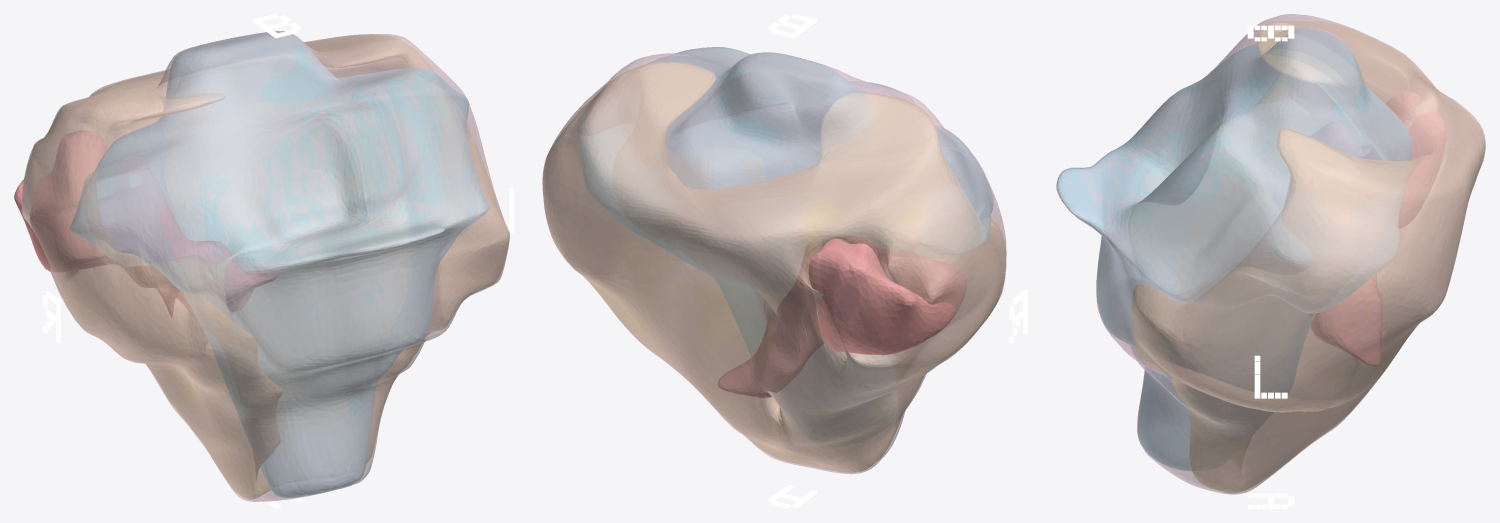
The picture shows the model from 3 angles, left to right: view 1: azimuth 30°, elevation 25°; view 2: azimuth 150°, elevation 25°; view 3: azimuth 270°, elevation 25°; orthographic projection.
Visible parts, largest first — view 1: prostate_gland, transition_zone, peripheral_zone, lesion_01, pv_ar_marker_B; view 2: prostate_gland, peripheral_zone, transition_zone, lesion_01, pv_ar_marker_B, pv_ar_marker_R; view 3: prostate_gland, peripheral_zone, transition_zone, lesion_01, pv_ar_marker_B, pv_ar_marker_A, pv_ar_marker_L.
Boxes of the visible parts, box(x1,y1,x2,y2) form: prostate_gland: box(21, 31, 509, 501); transition_zone: box(70, 31, 489, 497); peripheral_zone: box(22, 34, 509, 499); lesion_01: box(14, 130, 276, 322); pv_ar_marker_B: box(252, 14, 300, 38); prostate_gland: box(542, 47, 1006, 474); peripheral_zone: box(543, 61, 1006, 472); transition_zone: box(577, 47, 993, 416); lesion_01: box(718, 236, 966, 397); pv_ar_marker_B: box(768, 14, 817, 38); pv_ar_marker_R: box(1009, 289, 1027, 344); prostate_gland: box(1056, 14, 1485, 494); peripheral_zone: box(1132, 21, 1484, 493); transition_zone: box(1056, 27, 1411, 470); lesion_01: box(1285, 92, 1446, 365); pv_ar_marker_B: box(1247, 25, 1294, 41); pv_ar_marker_A: box(1247, 493, 1294, 508); pv_ar_marker_L: box(1254, 355, 1287, 398).
Bounding box in the file's own units: 0.0472 × 0.0469 × 0.0389.
